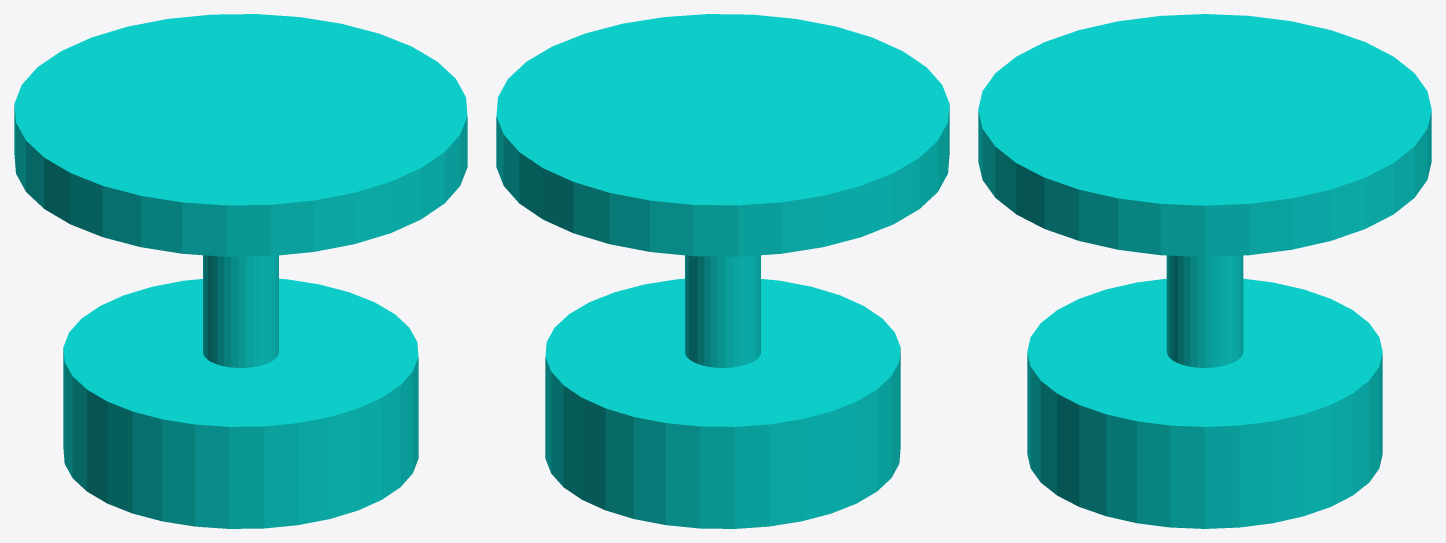
File: Lamp2.fbx
The picture shows the model from 3 angles, left to right: view 1: azimuth 30°, elevation 25°; view 2: azimuth 150°, elevation 25°; view 3: azimuth 270°, elevation 25°; orthographic projection.
Visible parts, largest first — view 1: Lamp2_LOD0; view 2: Lamp2_LOD0; view 3: Lamp2_LOD0.
Part boxes in pixels (box(x1,y1,x2,y2)): Lamp2_LOD0: box(14, 14, 467, 528); Lamp2_LOD0: box(496, 14, 949, 528); Lamp2_LOD0: box(978, 14, 1431, 528).
Size of what is drawn, in the model's own units: 200 by 167 by 200.
